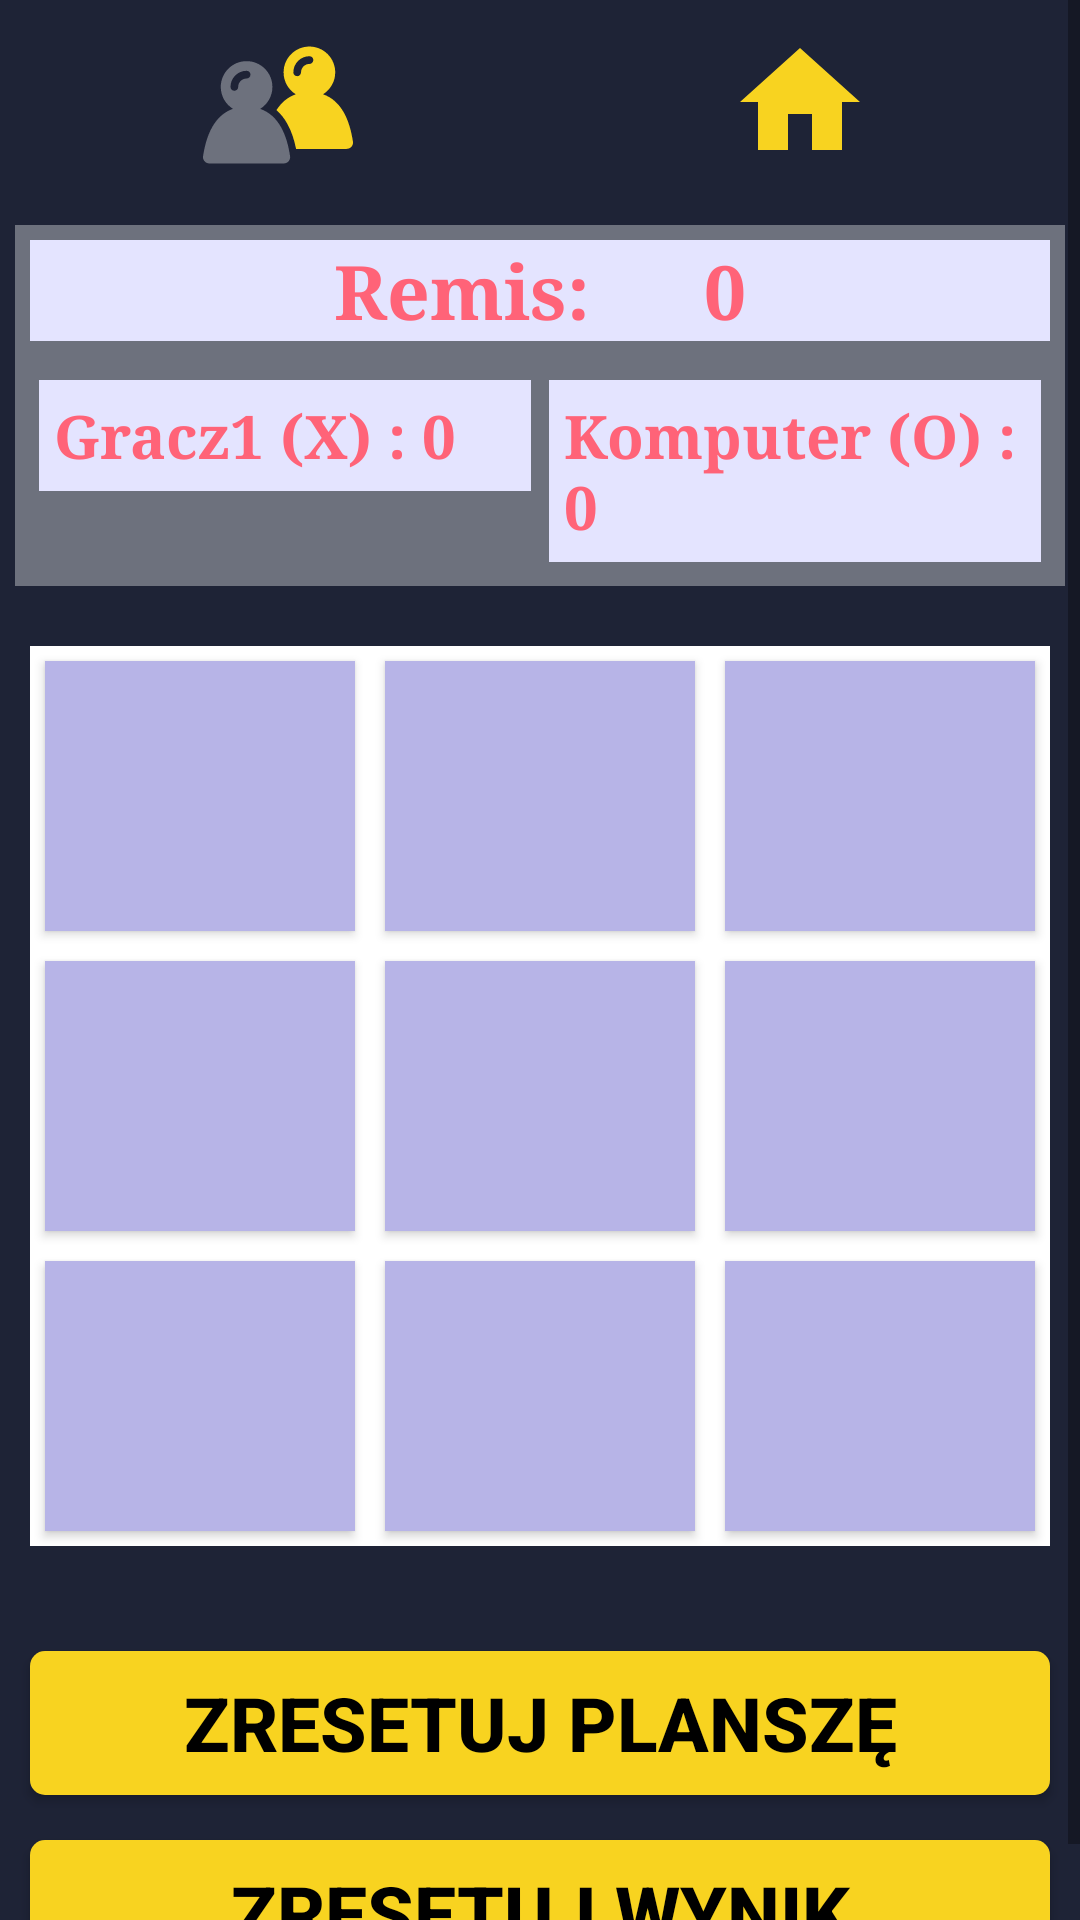

Named icons in this screenshot (1080px×1920px) and their centers, point (x, y):
home: point (800, 99)
players: point (278, 105)
